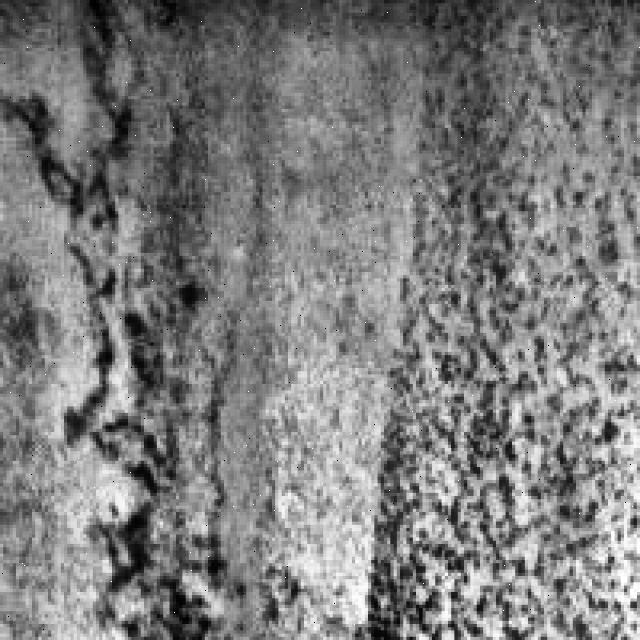Rolled_in_Scale: (12, 0, 278, 634), (374, 0, 634, 637)
